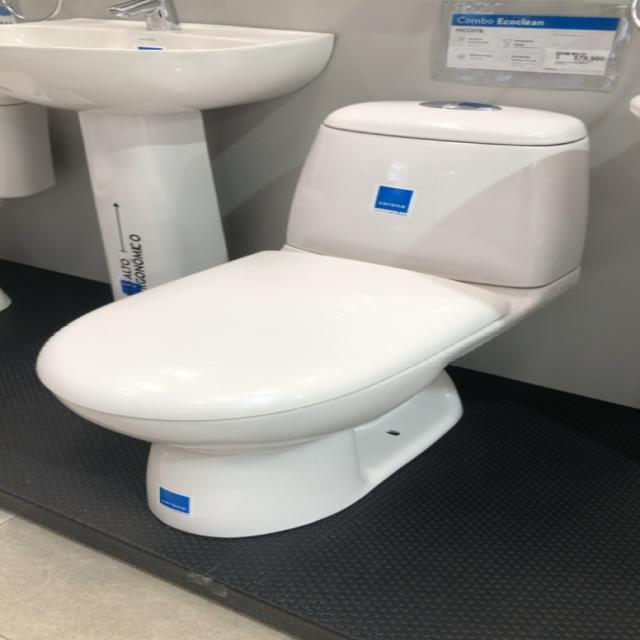toilet: (34, 98, 590, 538)
